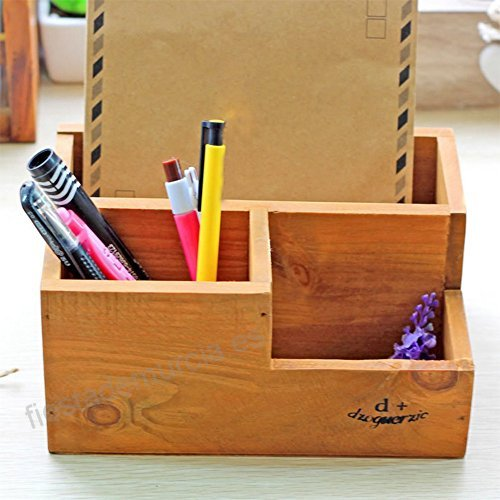Boligrafo: (24, 146, 150, 282), (8, 181, 83, 282), (52, 203, 136, 282), (159, 153, 208, 284), (193, 115, 227, 284)
